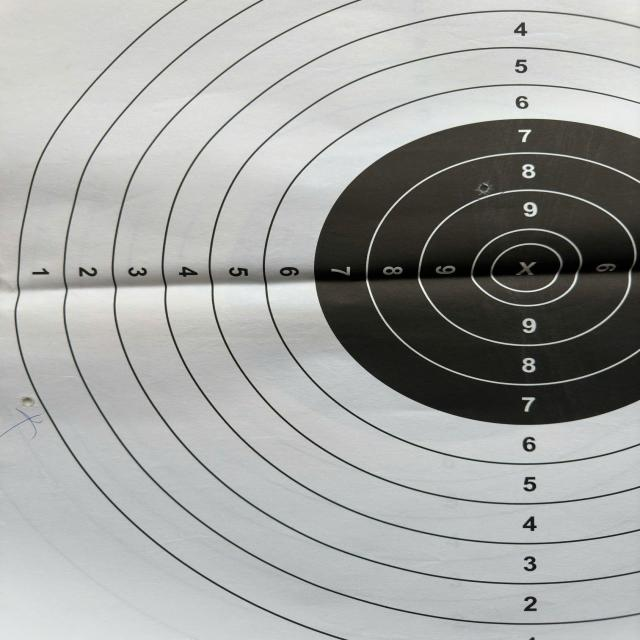bullet: (476, 180, 492, 195), (20, 396, 36, 408)
target: (0, 0, 640, 640)
